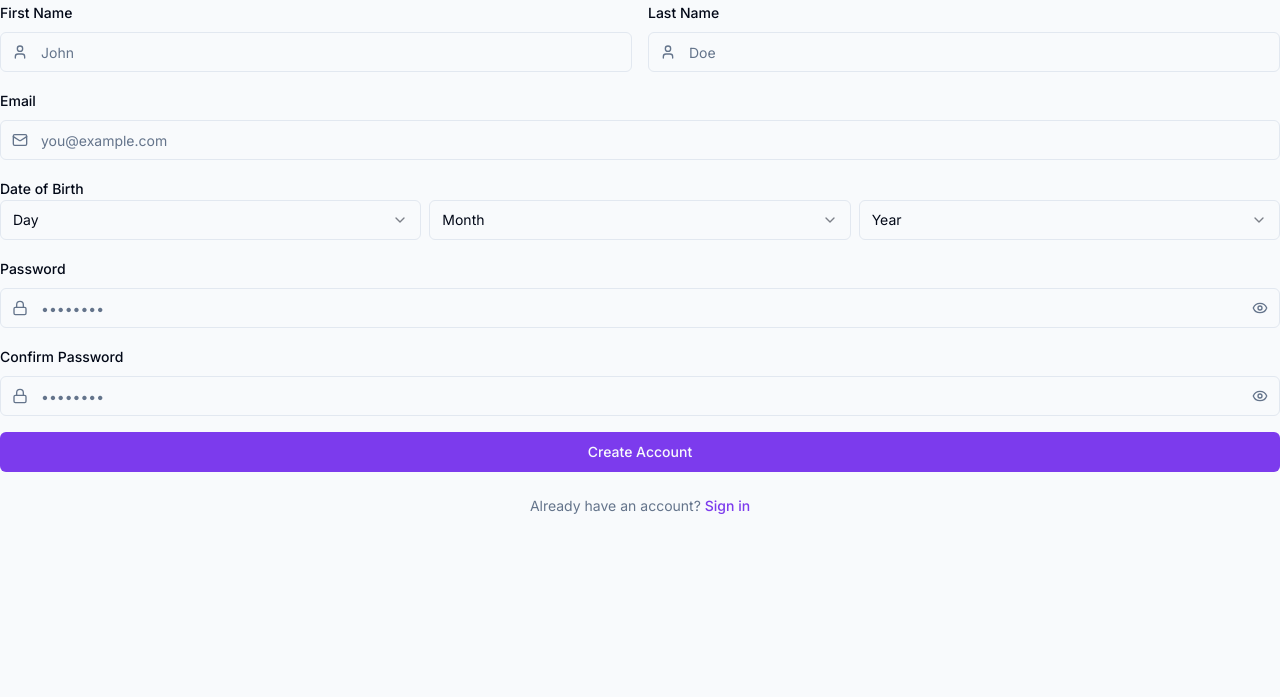
it: SignupForm › should show password number error if missing
Type "NoNumber!" into the password field labelled "Password".
click(640, 308); type("NoNumber!")  # box [0,288,1279,328]
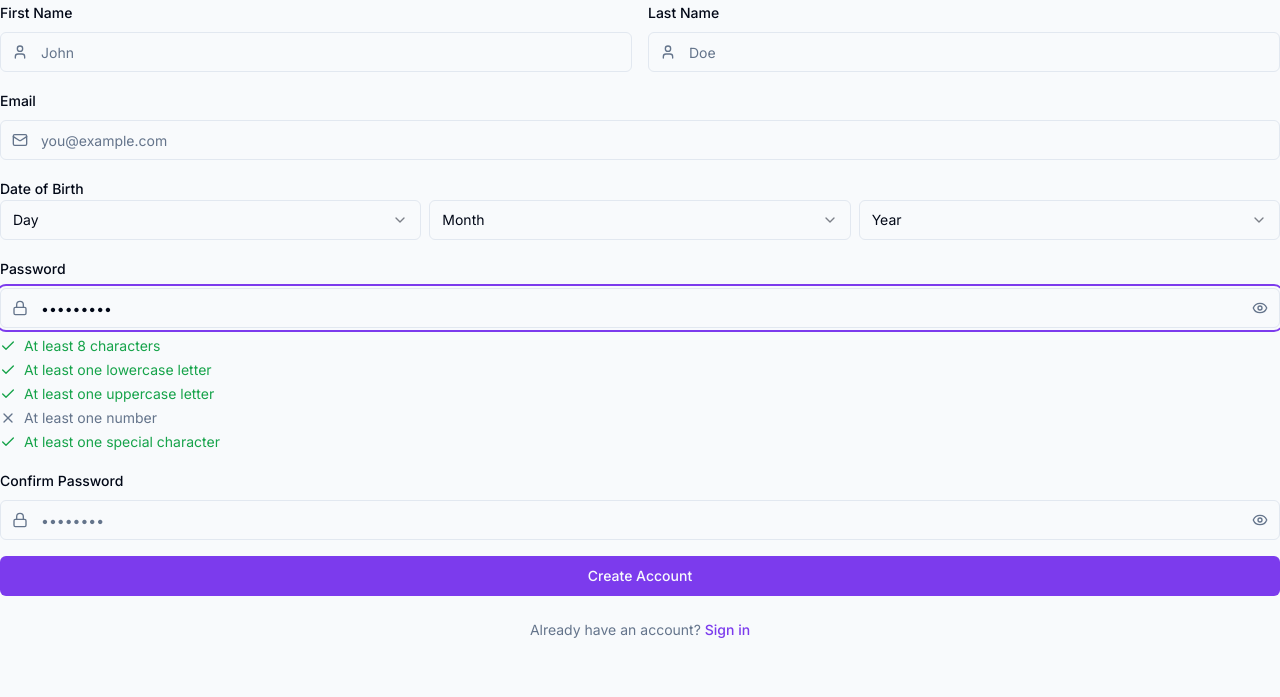
Click the field labelled "First Name".
click(316, 52)  # box [0,32,632,72]
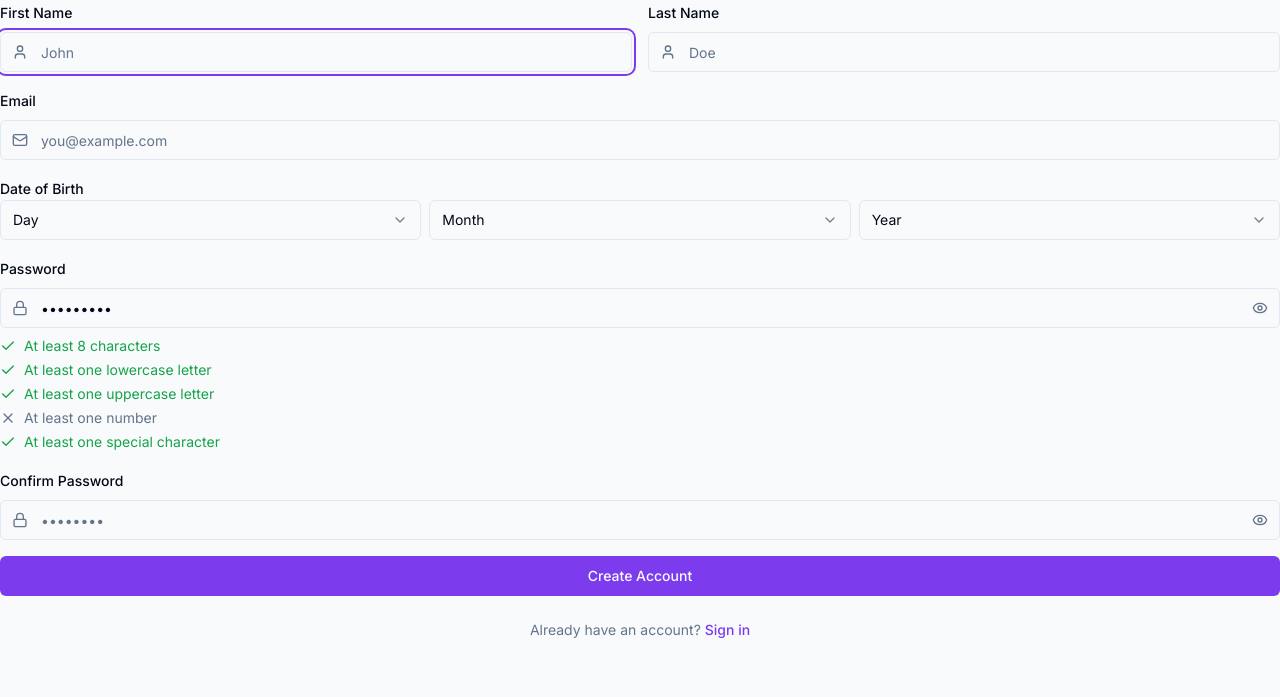
Click the button "Create Account".
click(640, 576)  # box [0,556,1279,596]
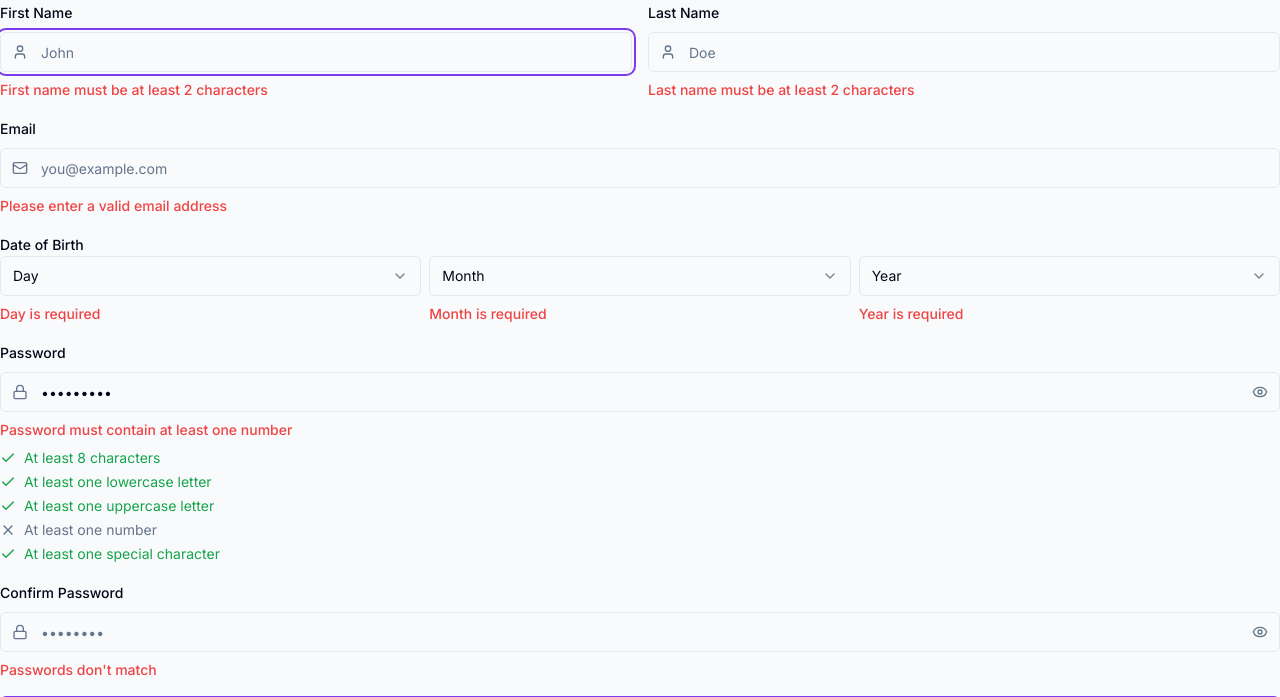
expect the text "Password must contain at least one number" is shown: met, box [0,421,292,438]
